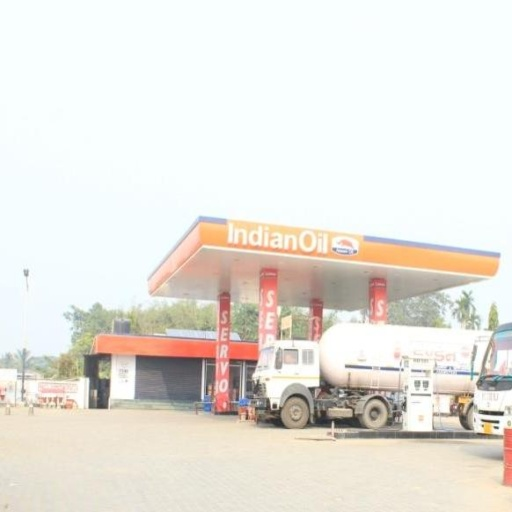roof: (148, 214, 499, 307)
